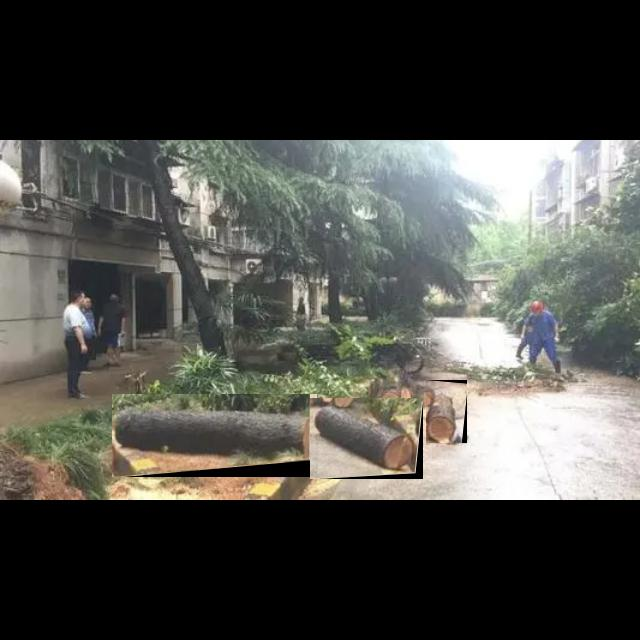Fallen Tree: (112, 394, 318, 478), (310, 398, 424, 480), (426, 380, 468, 444)
